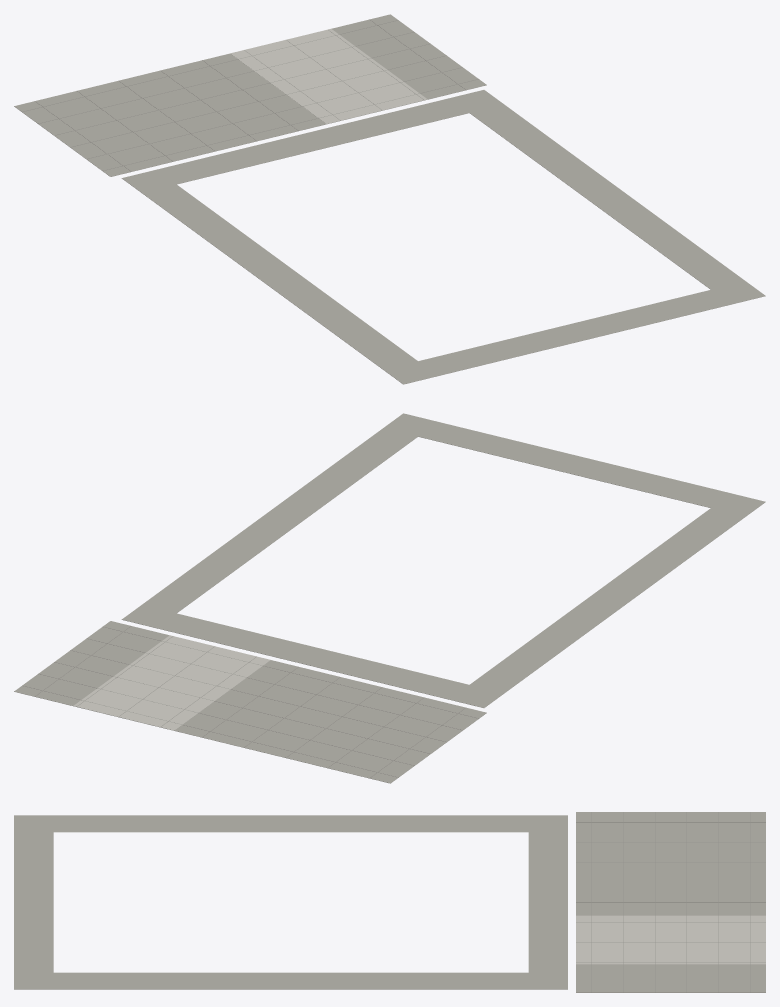
File: Plaza.obj
3 renders of one model, top to bottom at view 1: azimuth 30°, elevation 25°; view 2: azimuth 150°, elevation 25°; view 3: azimuth 270°, elevation 25°, orthographic.
Parts seen in each view (by area): view 1: Plaza; view 2: Plaza; view 3: Plaza.
Part boxes in pixels (x1=…): Plaza: x1=14, y1=14, x2=765, y2=384; Plaza: x1=14, y1=413, x2=765, y2=783; Plaza: x1=14, y1=812, x2=765, y2=992.
Size of the model in its own units: 54 by 0.042 by 95.
1 material, 1 textured.
